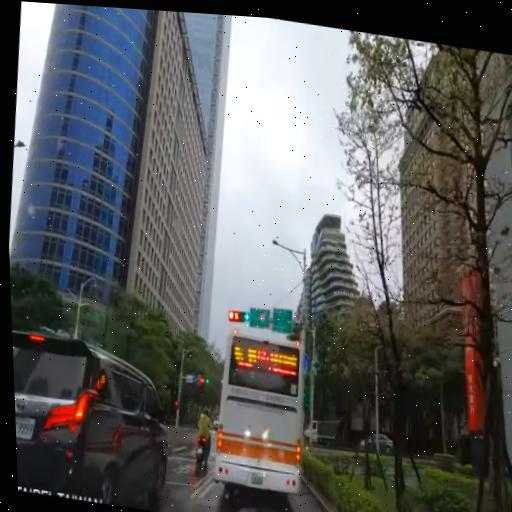Car: (12, 328, 180, 512), (211, 324, 314, 509), (191, 398, 216, 476), (300, 409, 344, 452), (359, 424, 398, 462)
